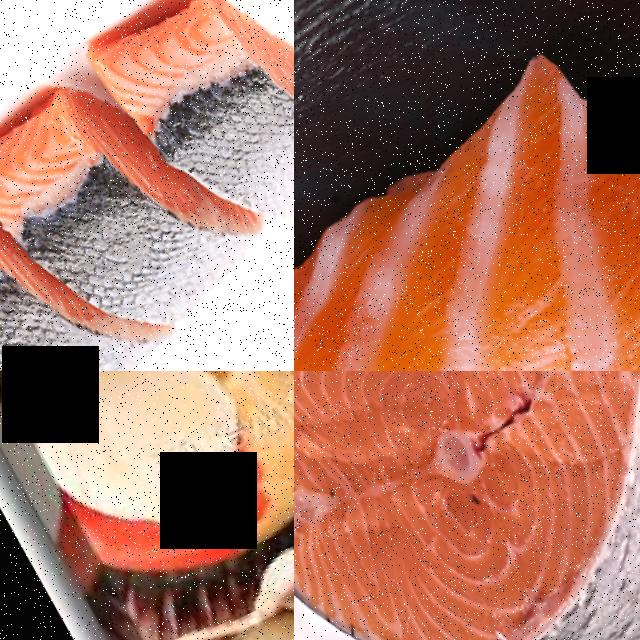salmon: (294, 0, 640, 371), (294, 371, 640, 640), (0, 64, 200, 328), (79, 0, 294, 217), (0, 178, 80, 371)
